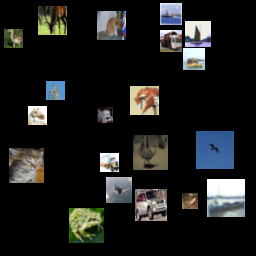airplane: (106, 177, 132, 203)
automobile: (135, 189, 167, 221)
bird: (196, 131, 234, 169), (133, 135, 168, 170), (4, 29, 23, 48), (46, 81, 65, 100)
cat: (9, 148, 44, 183), (97, 11, 126, 40)
deer: (38, 6, 67, 35)
dog: (97, 107, 113, 123)
frog: (69, 208, 104, 243), (182, 193, 198, 209)
ship: (207, 179, 245, 217), (185, 21, 211, 47), (183, 48, 205, 70), (160, 3, 182, 25)
